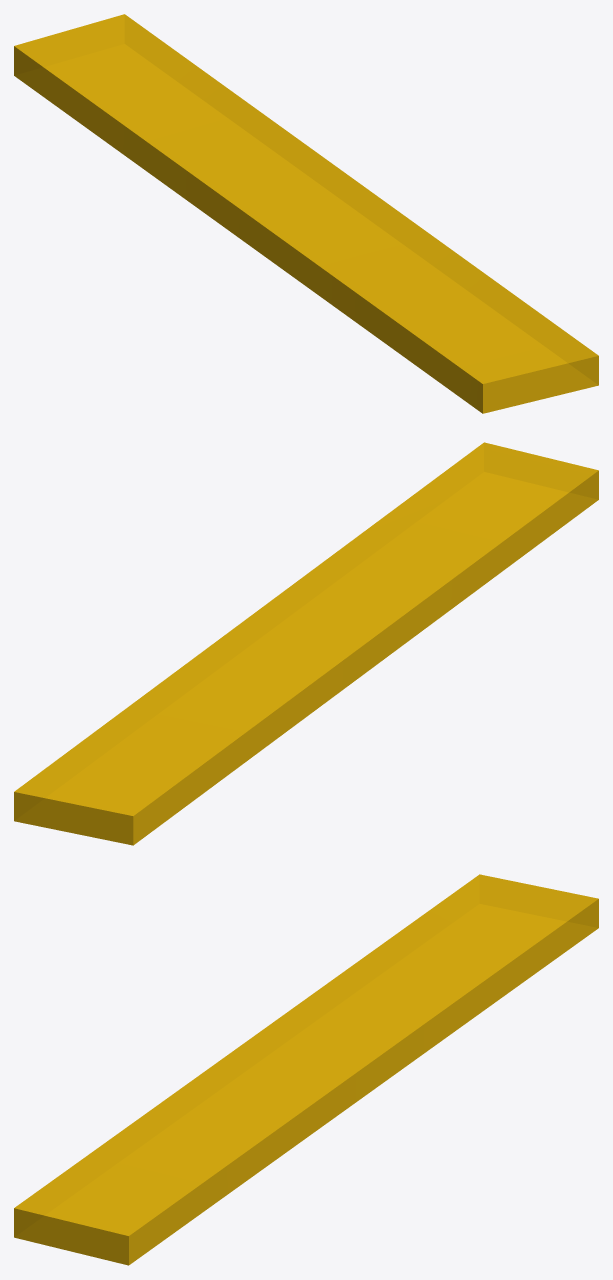
File: SM_Bld_Dock_Plank_03_Collision.fbx
3 renders of one model, top to bottom at view 1: azimuth 30°, elevation 25°; view 2: azimuth 150°, elevation 25°; view 3: azimuth 330°, elevation 25°, orthographic.
Parts seen in each view (by area): view 1: SM_Bld_Dock_Plank_03_Collision; view 2: SM_Bld_Dock_Plank_03_Collision; view 3: SM_Bld_Dock_Plank_03_Collision.
Part boxes in pixels (bbox=[...]): SM_Bld_Dock_Plank_03_Collision: bbox=[14, 14, 598, 413]; SM_Bld_Dock_Plank_03_Collision: bbox=[14, 442, 598, 845]; SM_Bld_Dock_Plank_03_Collision: bbox=[14, 874, 598, 1265].
Size of the model in its own units: 36.62 by 10.73 by 258.
